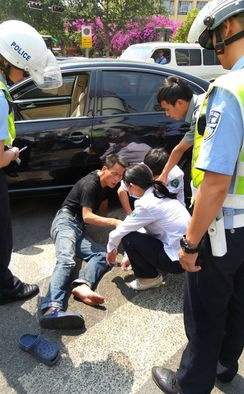falling: (24, 149, 136, 339)
